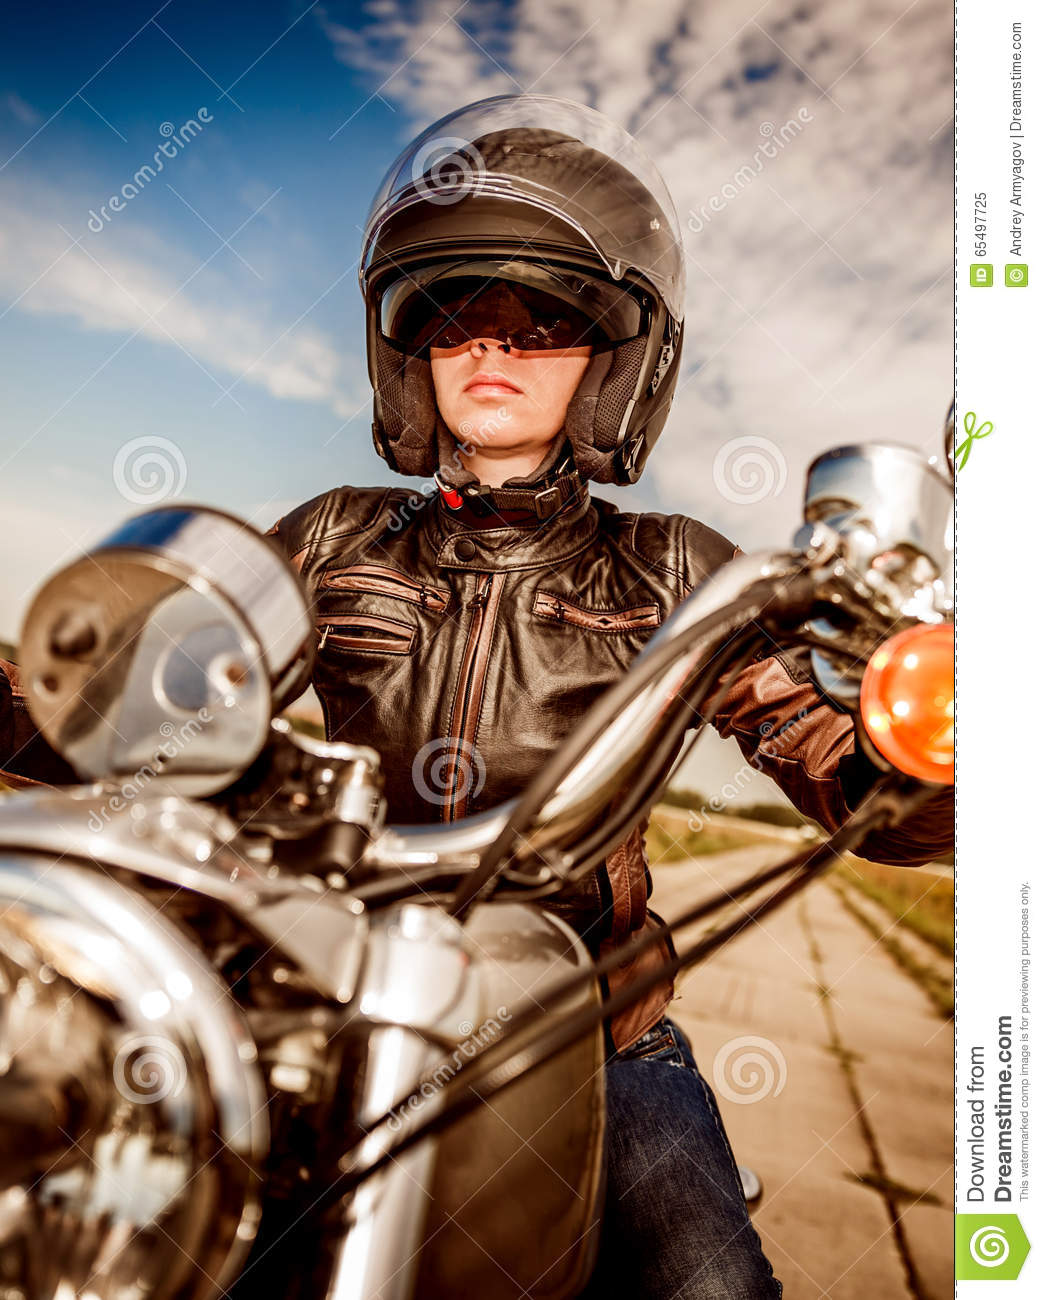helmet: (358, 109, 674, 487)
